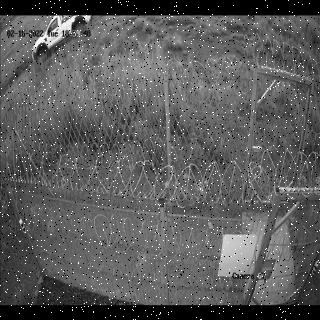car: (31, 14, 92, 62)
